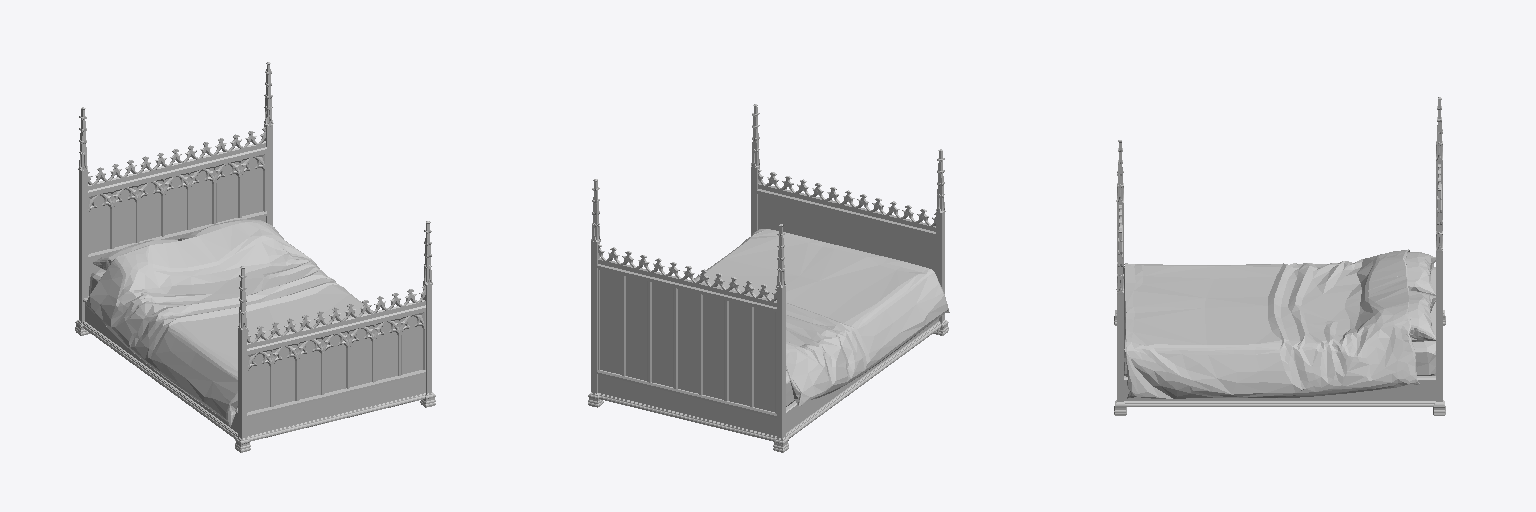
The model's file is bed.obj.
The picture shows the model from 3 angles: view 1: azimuth 30°, elevation 25°; view 2: azimuth 150°, elevation 25°; view 3: azimuth 270°, elevation 25°; orthographic projection.
Visible parts, largest first — view 1: GothicBed_01_Plane.004; view 2: GothicBed_01_Plane.004; view 3: GothicBed_01_Plane.004.
Part boxes in pixels (left/top/right/bottom): GothicBed_01_Plane.004: left=75, top=62, right=435, bottom=452; GothicBed_01_Plane.004: left=588, top=104, right=949, bottom=452; GothicBed_01_Plane.004: left=1114, top=97, right=1445, bottom=415.
Bounding box in the file's own units: 1.49 × 1.53 × 2.04.